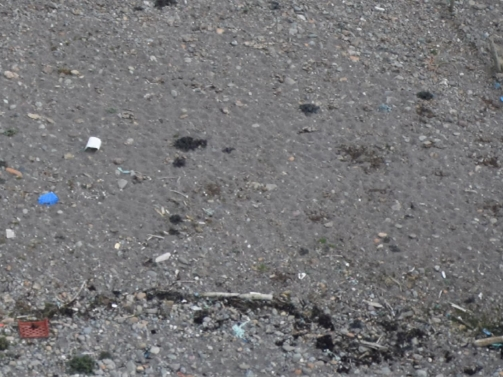scattered_barrel: (4, 128, 108, 244)
straight_bar: (193, 276, 281, 312)
white_in_green: (1, 294, 68, 364)
